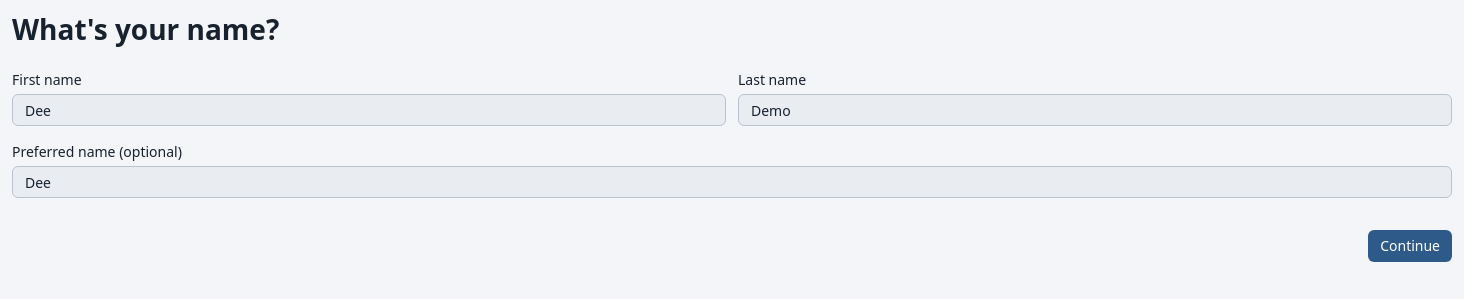
Continue advances the question index in the URL › does not advance when the current question is invalid
The image size is (1464, 299).
Clear the field labelled "First name" at (369, 110), box [12, 94, 726, 126]
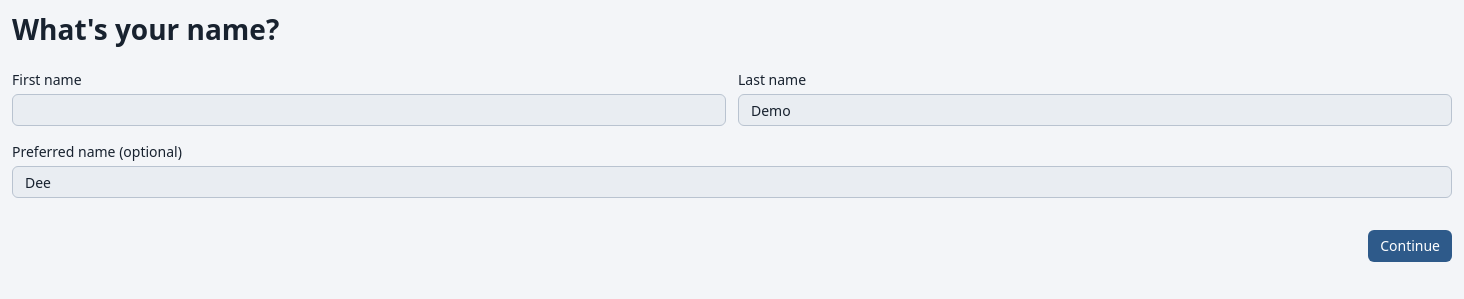
Click the button "Continue" at (1410, 246), box [1368, 230, 1452, 262]
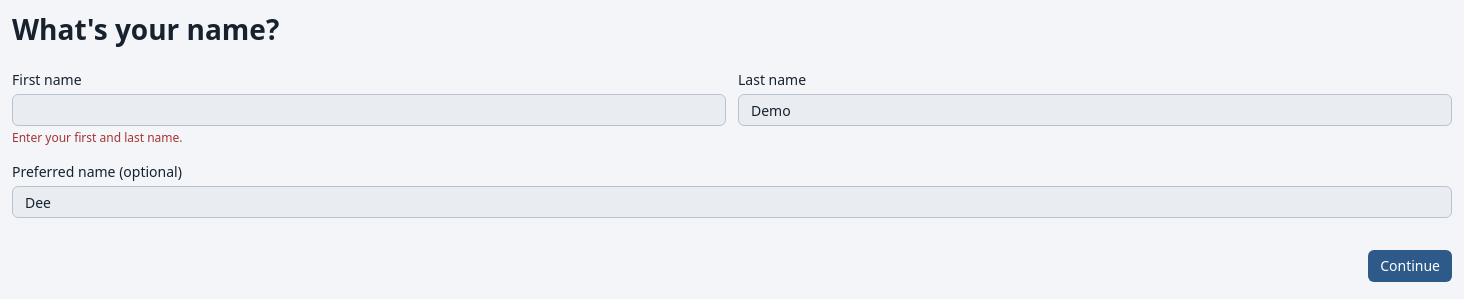
Expected: the text "Enter your first and last name." is shown, [12, 129, 182, 146]
